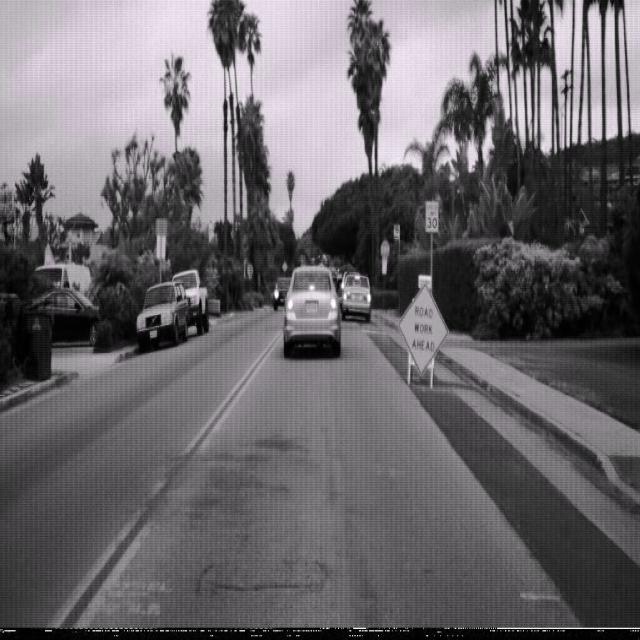speedLimit30: (424, 199, 439, 233)
